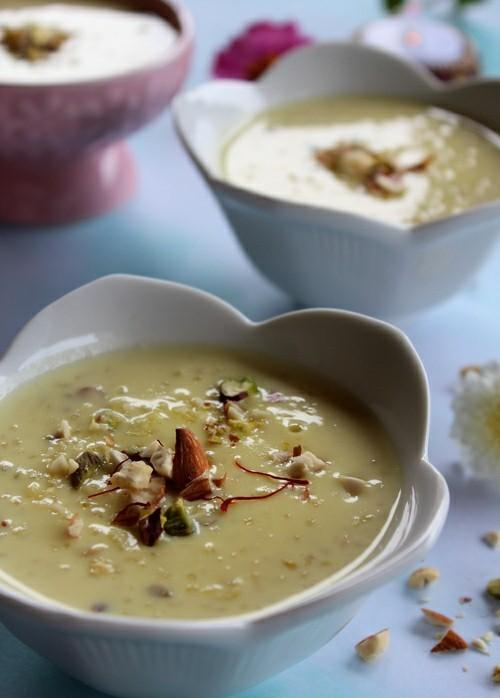Kheer: (0, 343, 410, 620), (220, 92, 500, 227), (0, 0, 183, 81)
